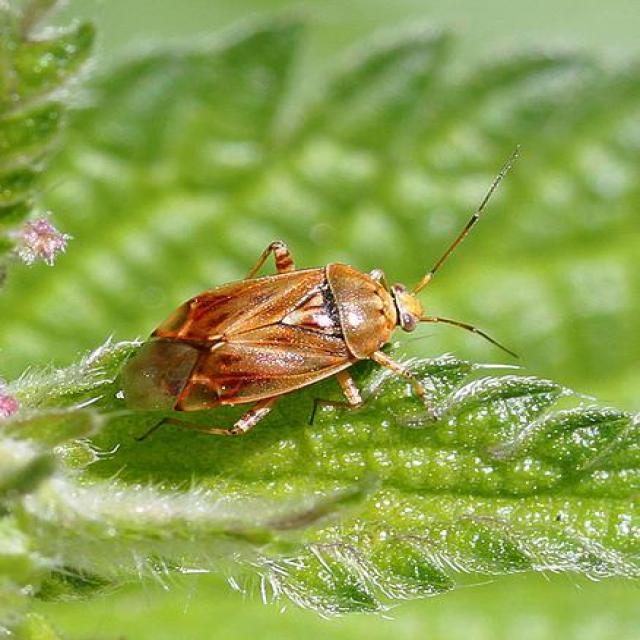Miridae-Adult-: (98, 136, 542, 453)
